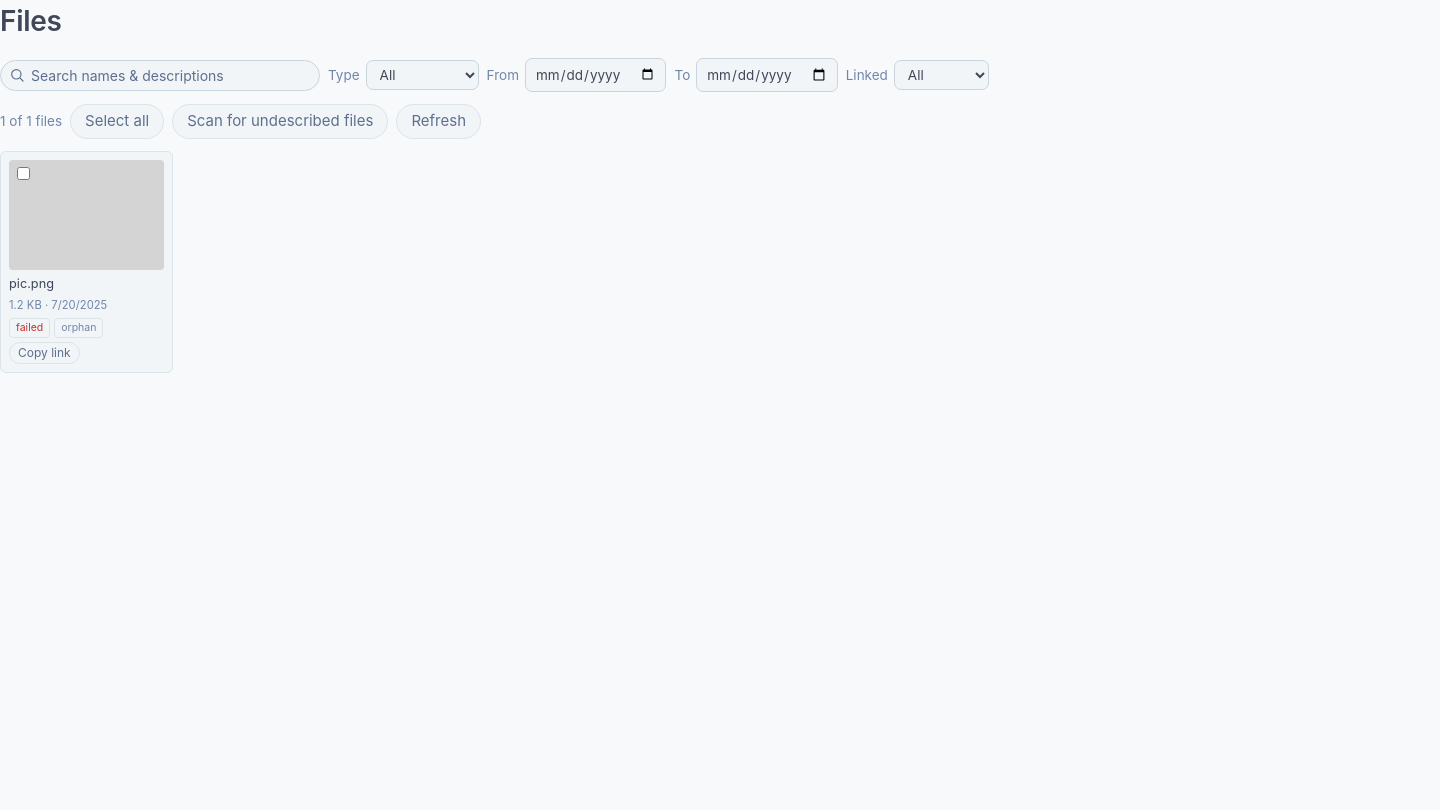
Files › shows the error from the failed badge
Click the button "failed": (30, 328) [9,318,50,338]
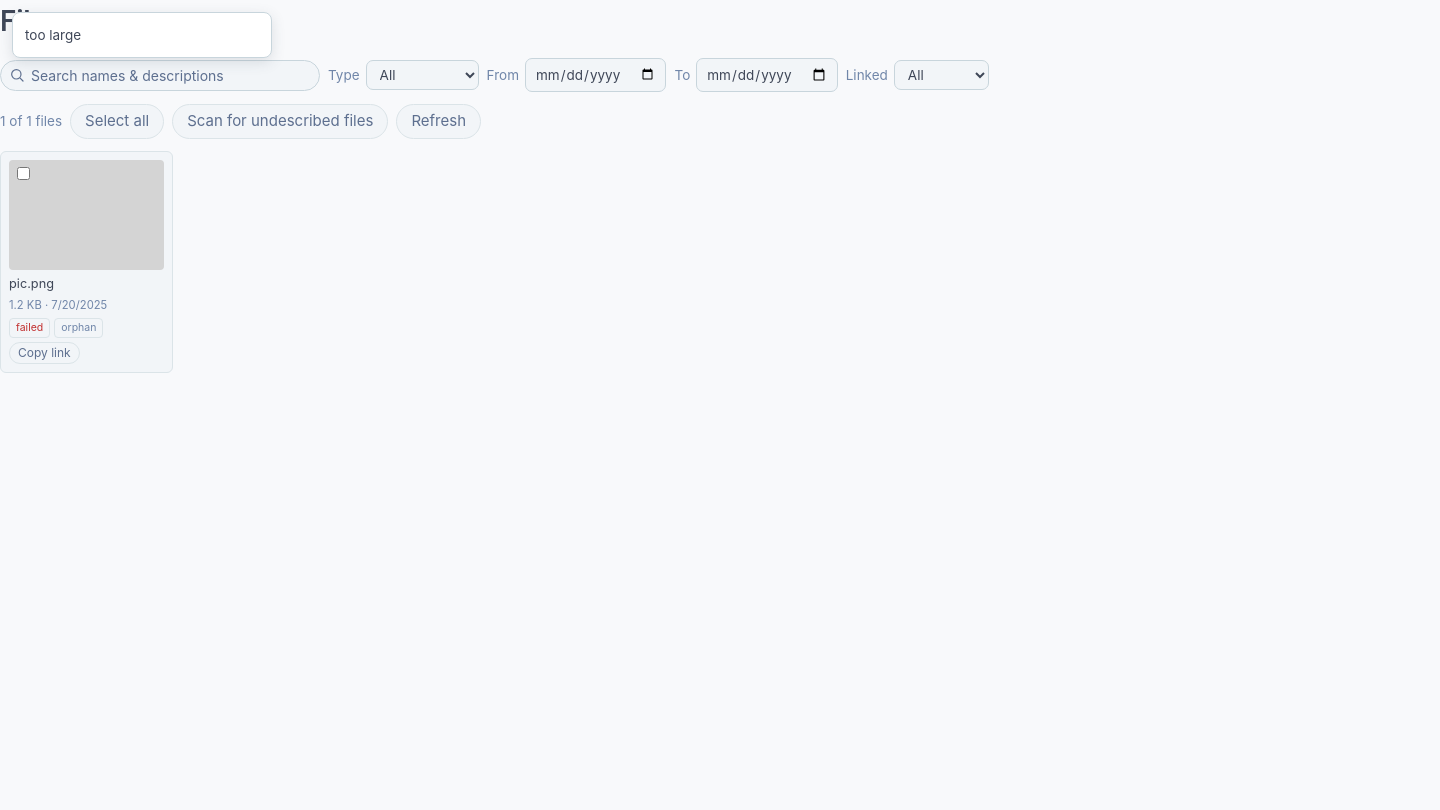
Check: the dialog named "Description error" reads "too large", box [25,27,81,43]
